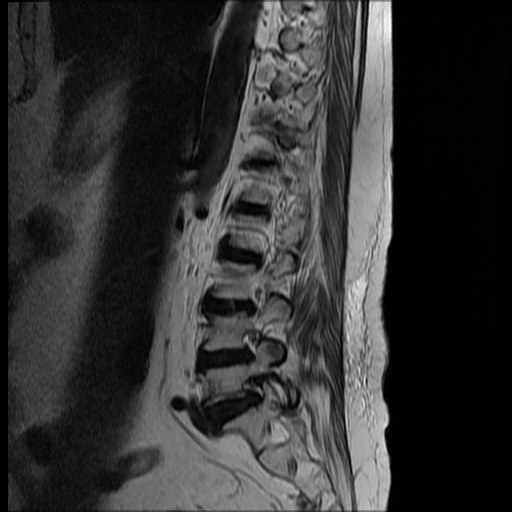LFS1: (235, 321, 273, 366)
LFS3: (234, 369, 276, 411)
